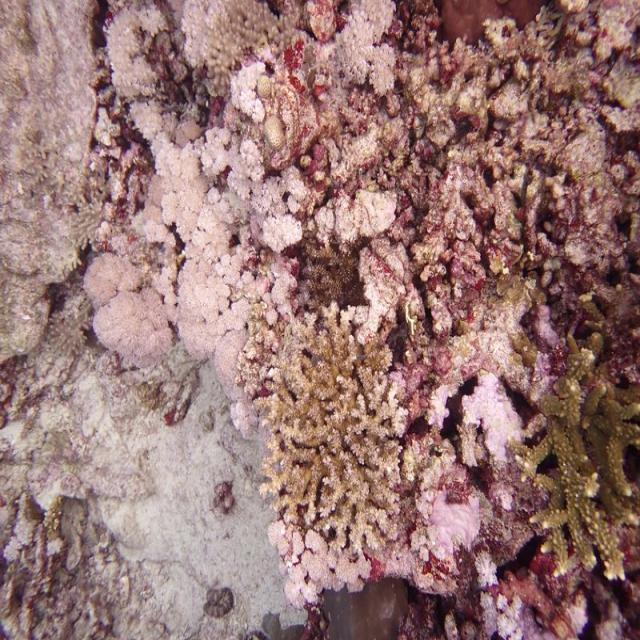Bleached Coral: (422, 363, 536, 498)
Healthy Coral: (537, 360, 640, 581)
